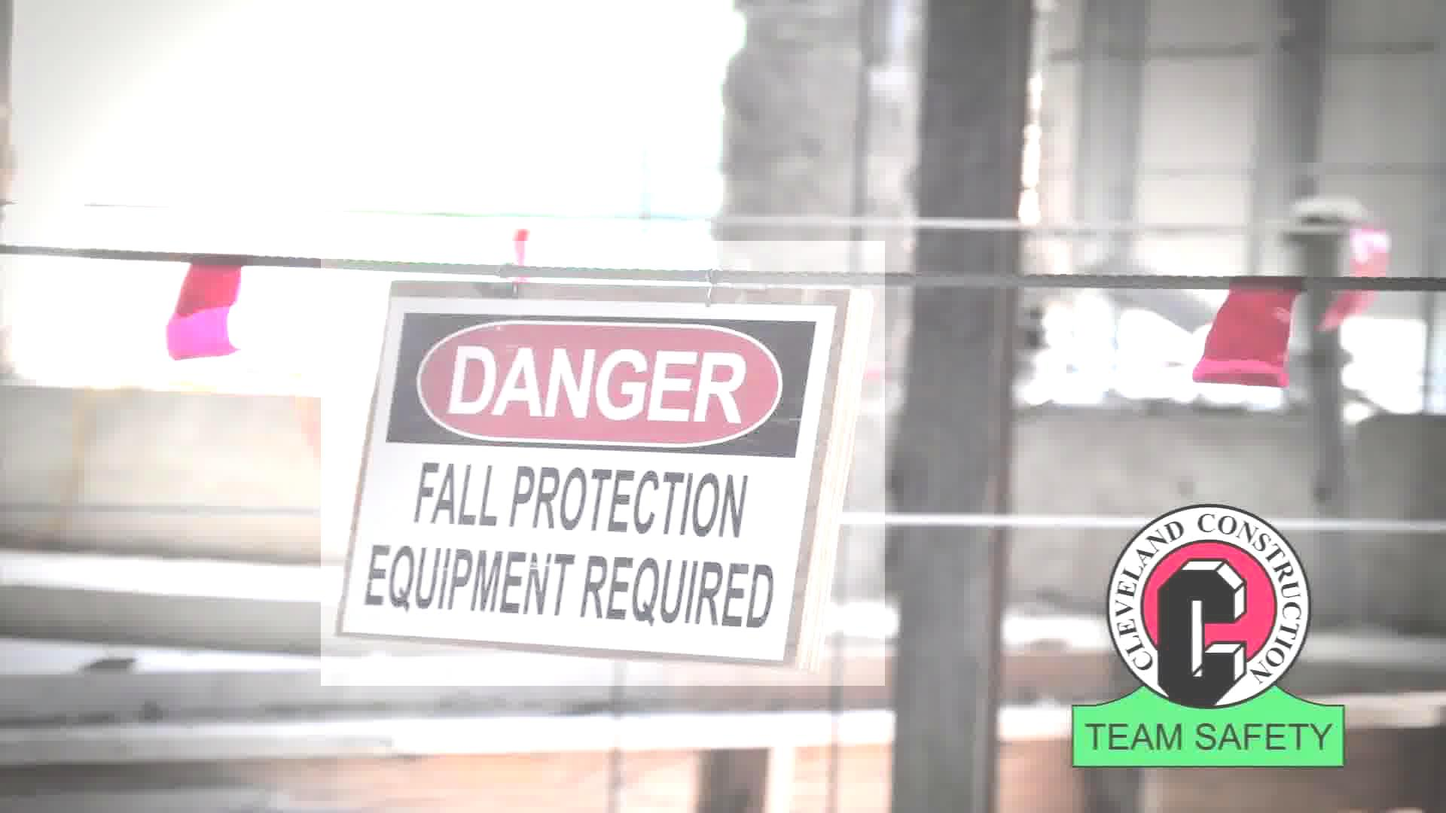safety_signage: (321, 241, 885, 686)
